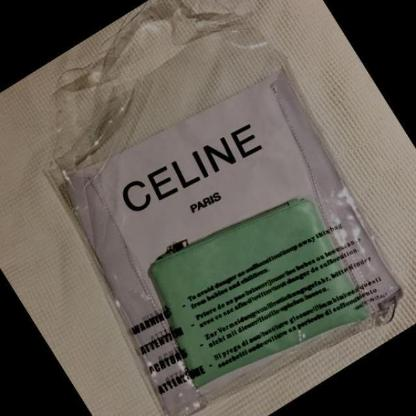Plastic Packaging: (42, 0, 406, 416)
